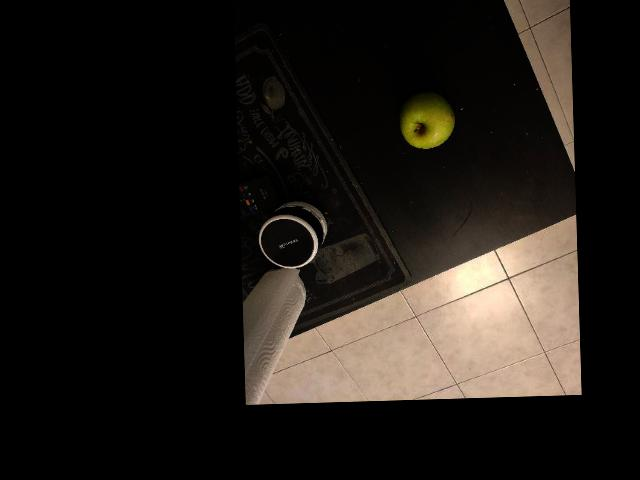apple: (479, 208, 563, 284)
